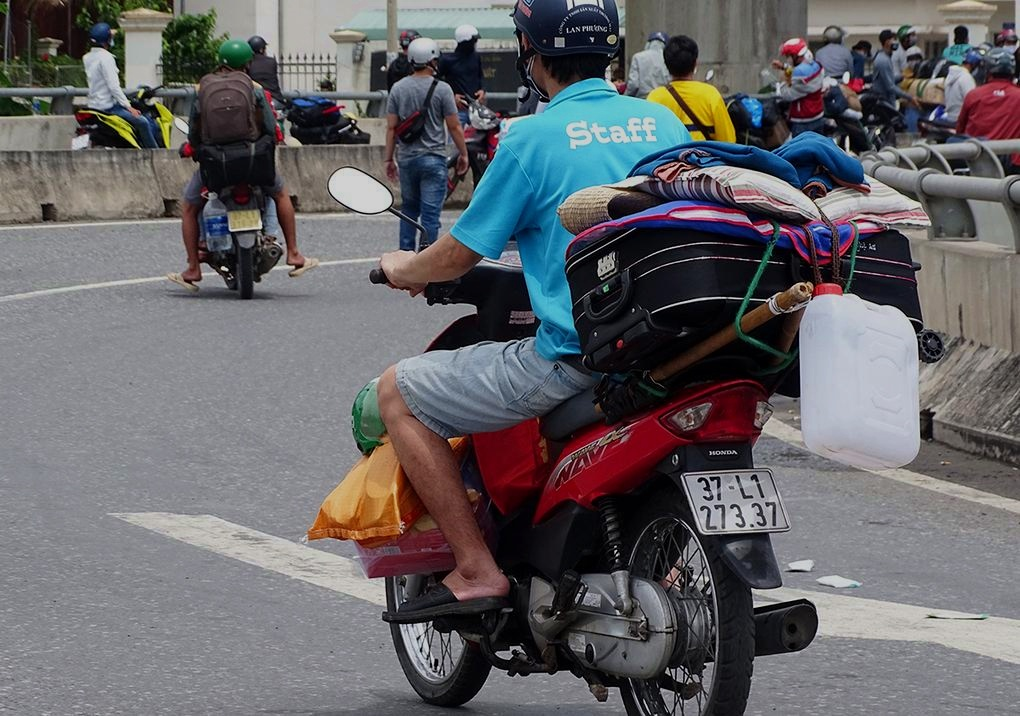Bien-so: (666, 450, 791, 522), (194, 190, 238, 215), (28, 114, 49, 132)
